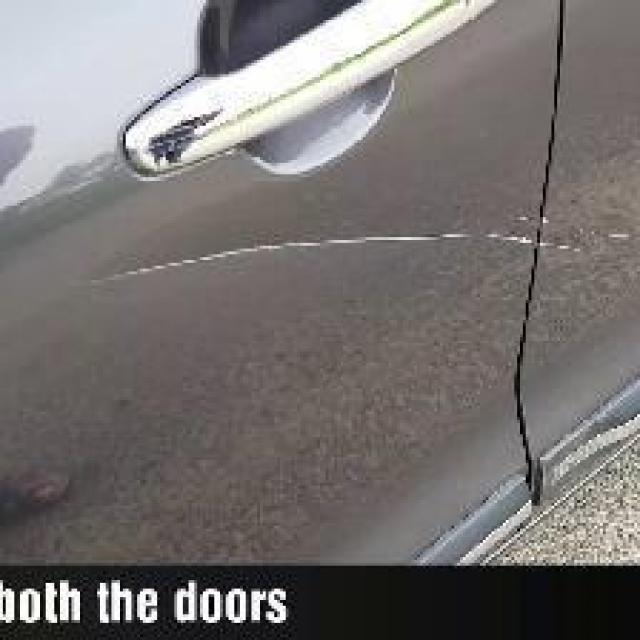damaged: (85, 214, 638, 289)
